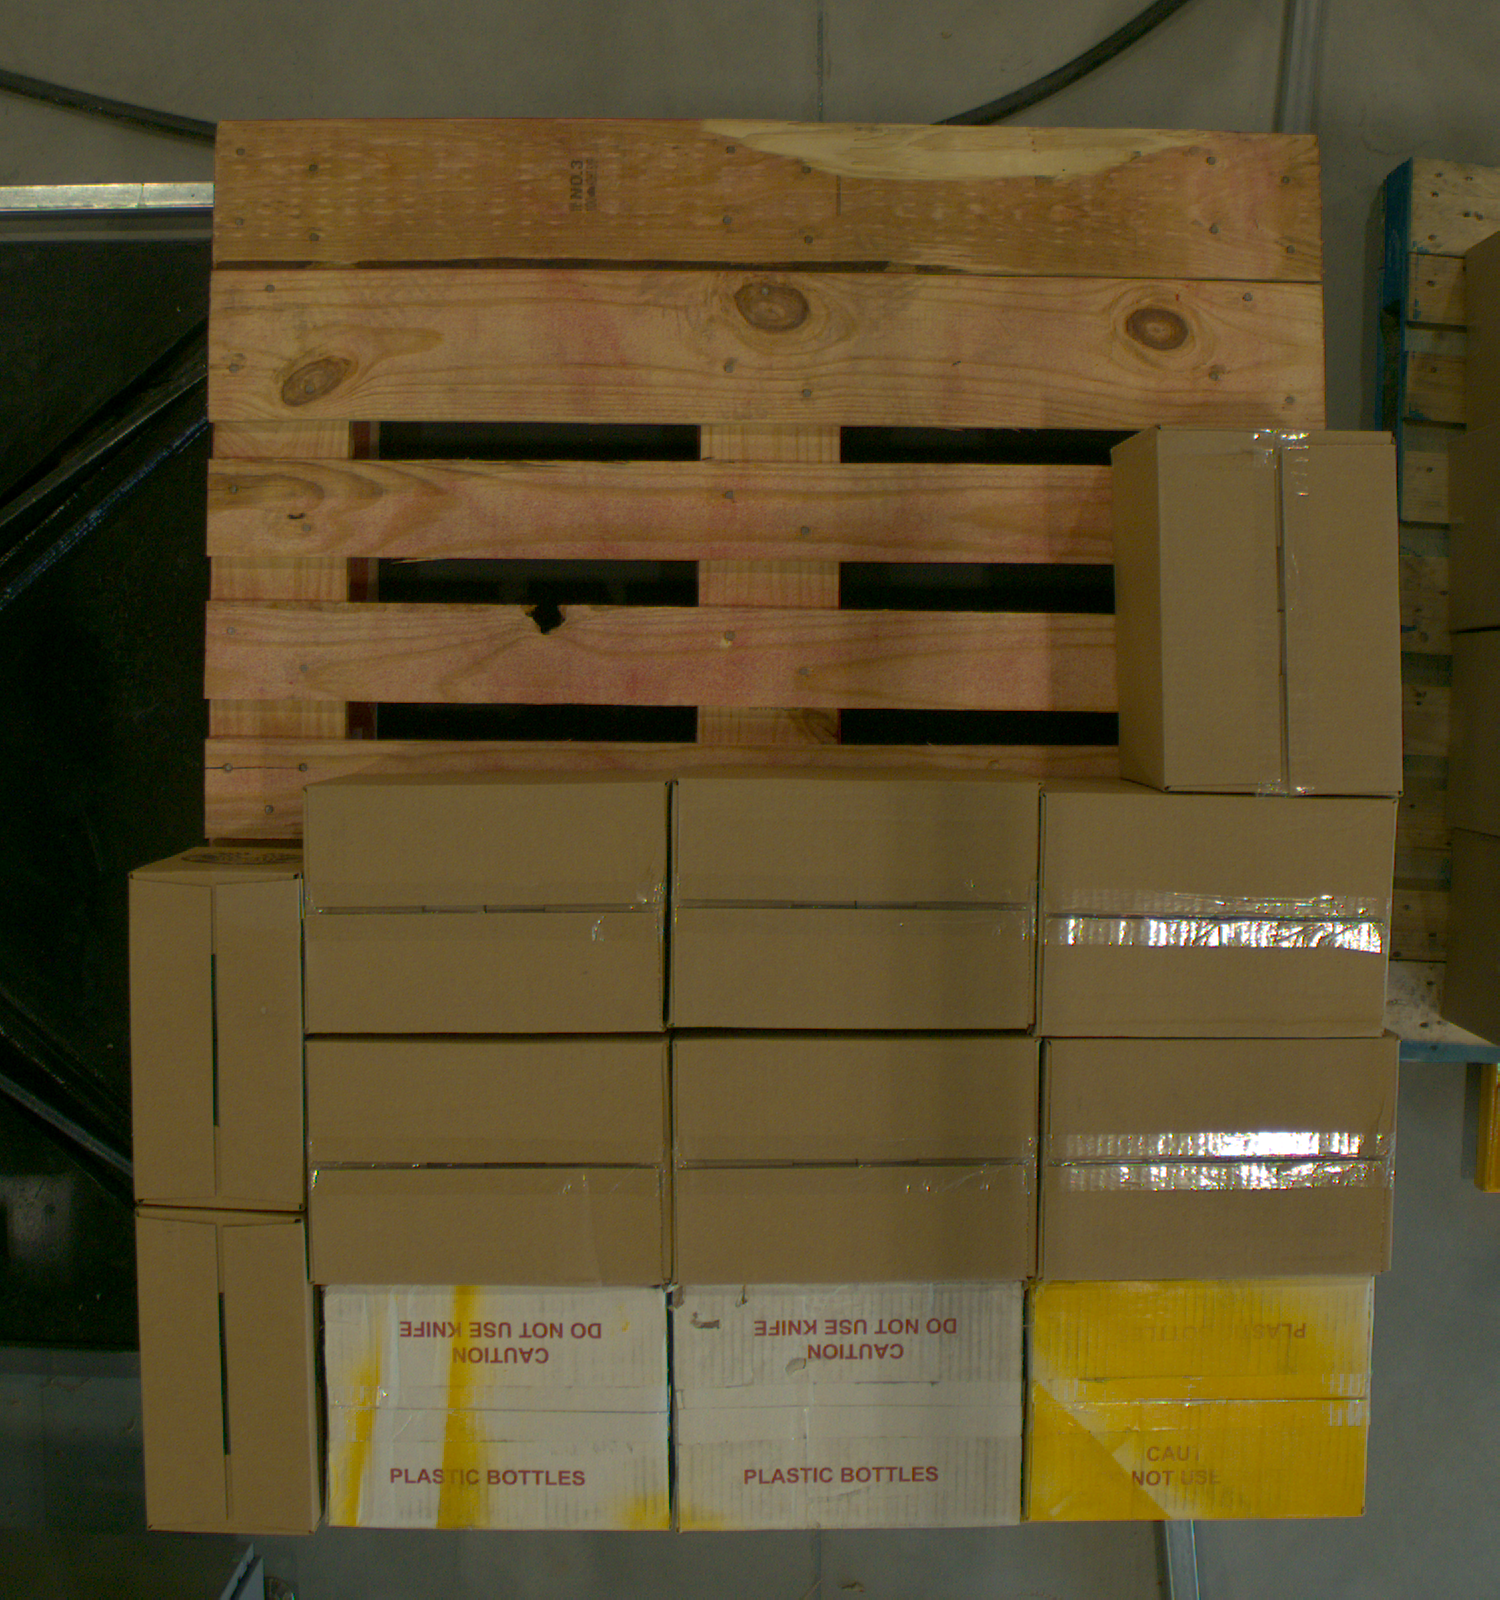box top: (362, 726, 610, 1091), (671, 782, 1038, 1028), (1159, 424, 1401, 795), (1036, 795, 1398, 1038), (725, 1231, 971, 1582), (369, 983, 608, 1343), (1040, 1040, 1400, 1279), (674, 1042, 1035, 1279), (1026, 1279, 1376, 1522), (376, 1238, 616, 1580), (130, 873, 305, 1212), (138, 1210, 314, 1535)
